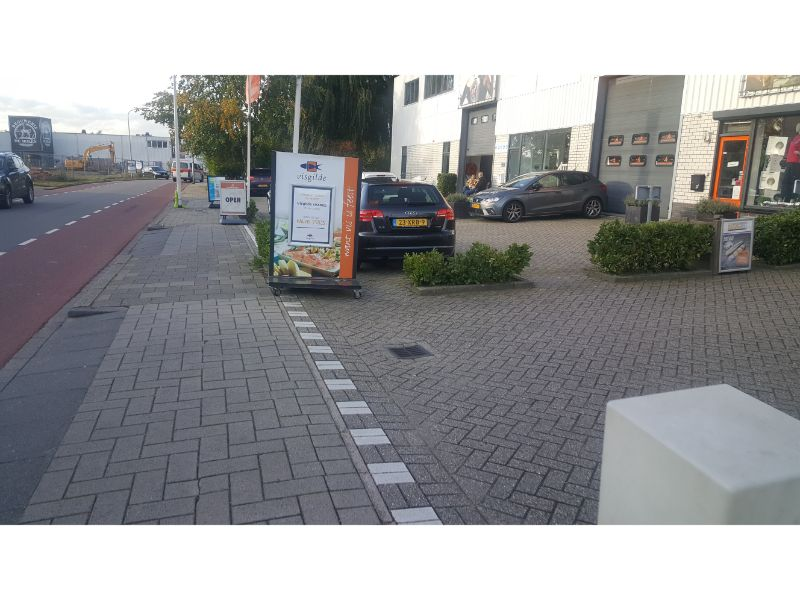kenteken: (395, 217, 429, 226)
